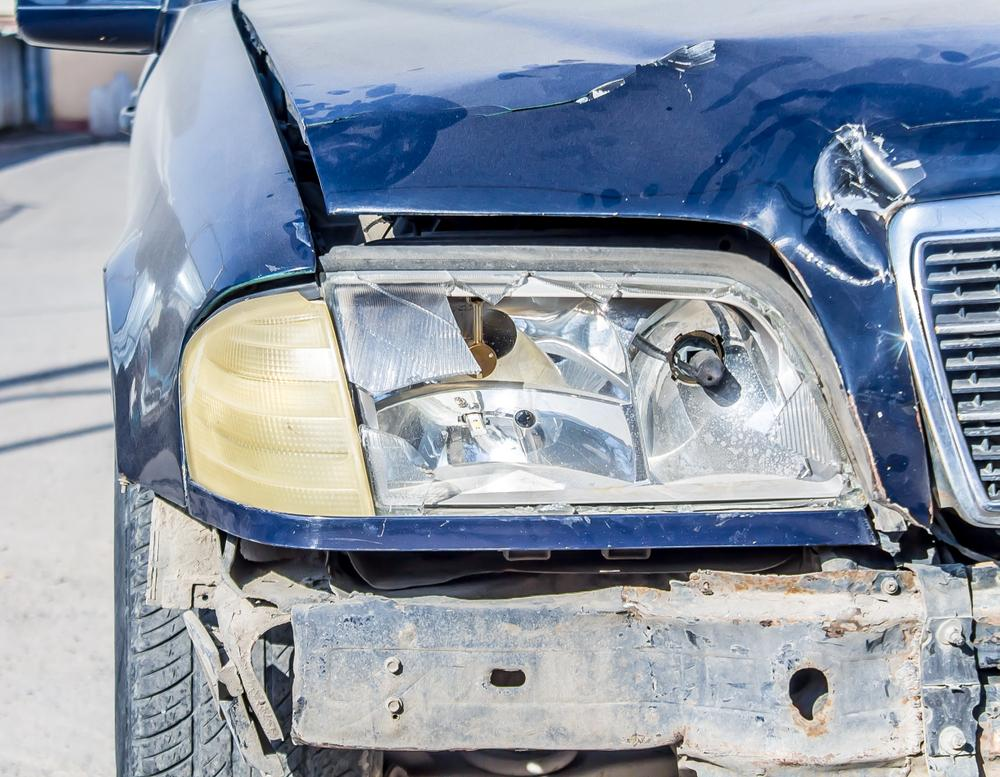dent: (762, 117, 905, 283)
lamp broken: (321, 261, 869, 515)
